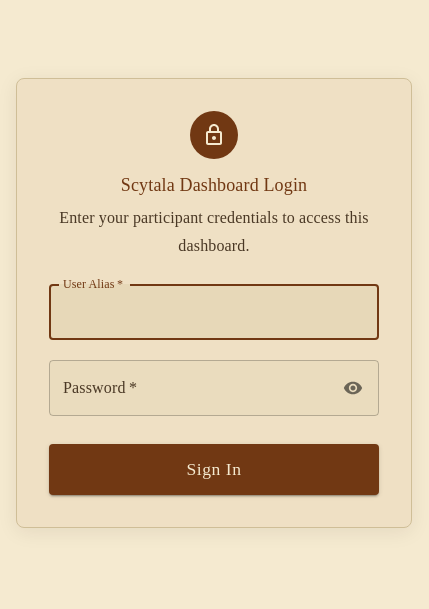
Test: LoginForm Client Component › displays field errors when login action returns validation fieldErrors
Click the button "Sign In". click: (214, 470)
box: [49,444,379,495]
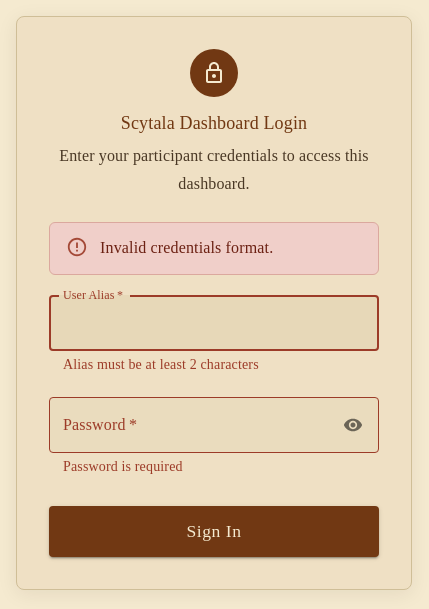
Expected: the text "Alias must be at least 2 characters" is shown, [63,357,259,372]
Expected: the text "Password is required" is shown, [63,458,183,474]
Expected: the message reads "Invalid credentials format.", [100,239,273,256]
